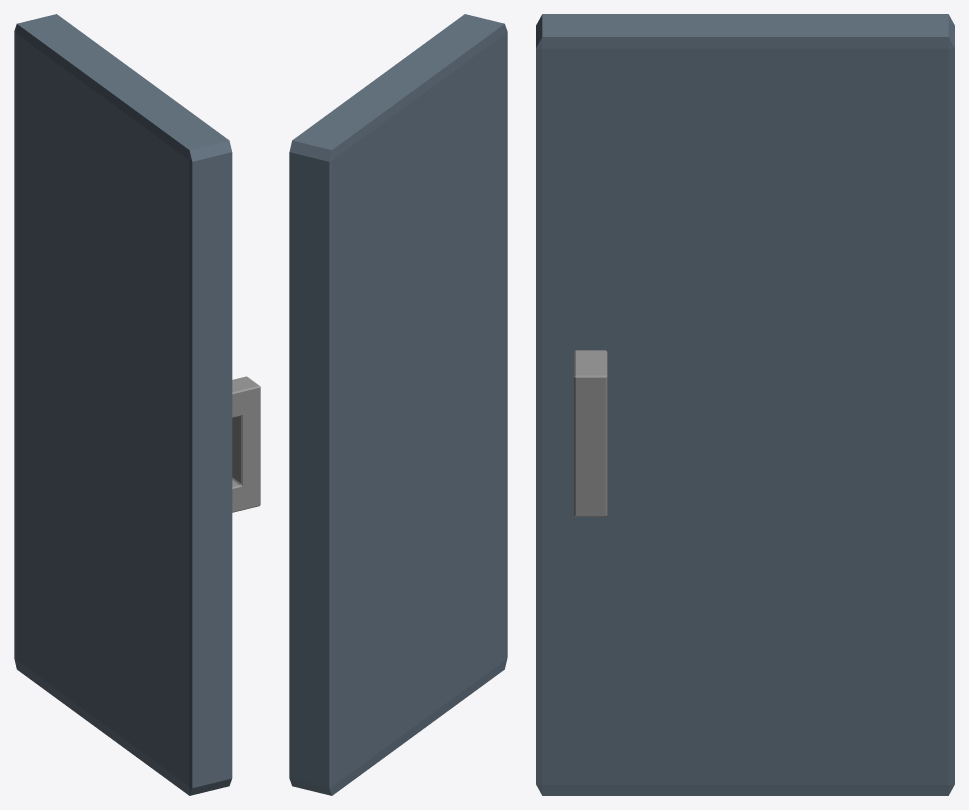
The model's file is MishiDoor.fbx.
3 renders of one model, left to right at view 1: azimuth 30°, elevation 25°; view 2: azimuth 150°, elevation 25°; view 3: azimuth 270°, elevation 25°, orthographic. The views are drawn at different scales.
Parts seen in each view (by area): view 1: Door, Handle; view 2: Door; view 3: Door, Handle.
Part boxes in pixels (x1,y1,x2,y2): Door: (14,14,232,795); Handle: (232,376,260,512); Door: (289,14,507,795); Door: (536,14,954,795); Handle: (574,350,607,516).
Bounding box in the file's own units: 209 × 1500 × 750.
